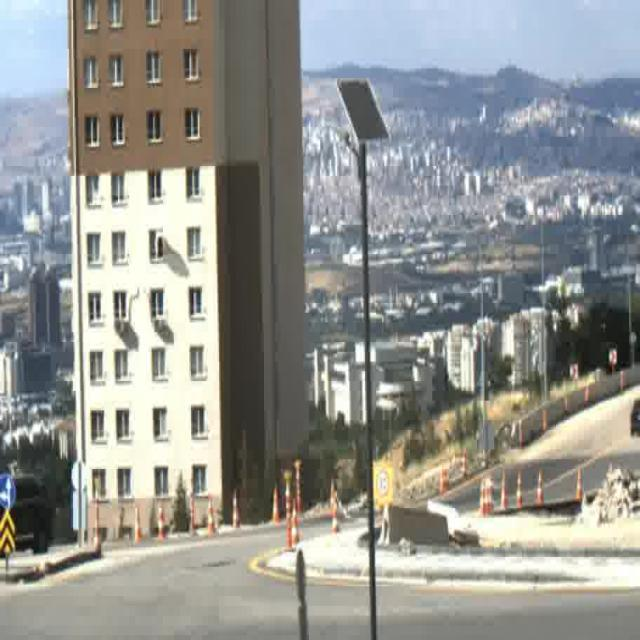Car: (0, 467, 48, 555), (629, 396, 640, 436)
